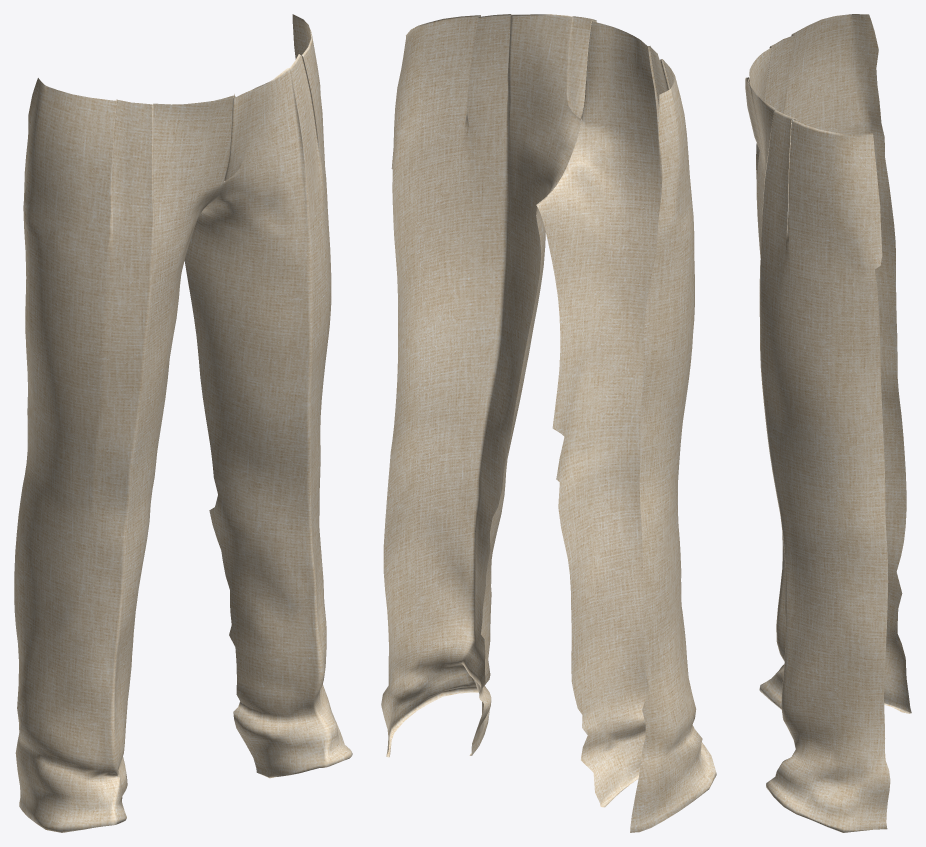
Rendered from forward_double_pleat.glb.
3 views of the same model, side by side, from view 1: azimuth 30°, elevation 25°; view 2: azimuth 150°, elevation 25°; view 3: azimuth 270°, elevation 25° (orthographic). The views are drawn at different scales.
Visible parts, largest first — view 1: forward_double_pleat2; view 2: forward_double_pleat2; view 3: forward_double_pleat2.
Part boxes in pixels (x1,y1,x2,y2): forward_double_pleat2: [14, 14, 352, 832]; forward_double_pleat2: [381, 14, 716, 832]; forward_double_pleat2: [745, 14, 911, 832].
Bounding box in the file's own units: 0.0545 × 0.1247 × 0.027.
Materials: 1 (1 with a texture image).
